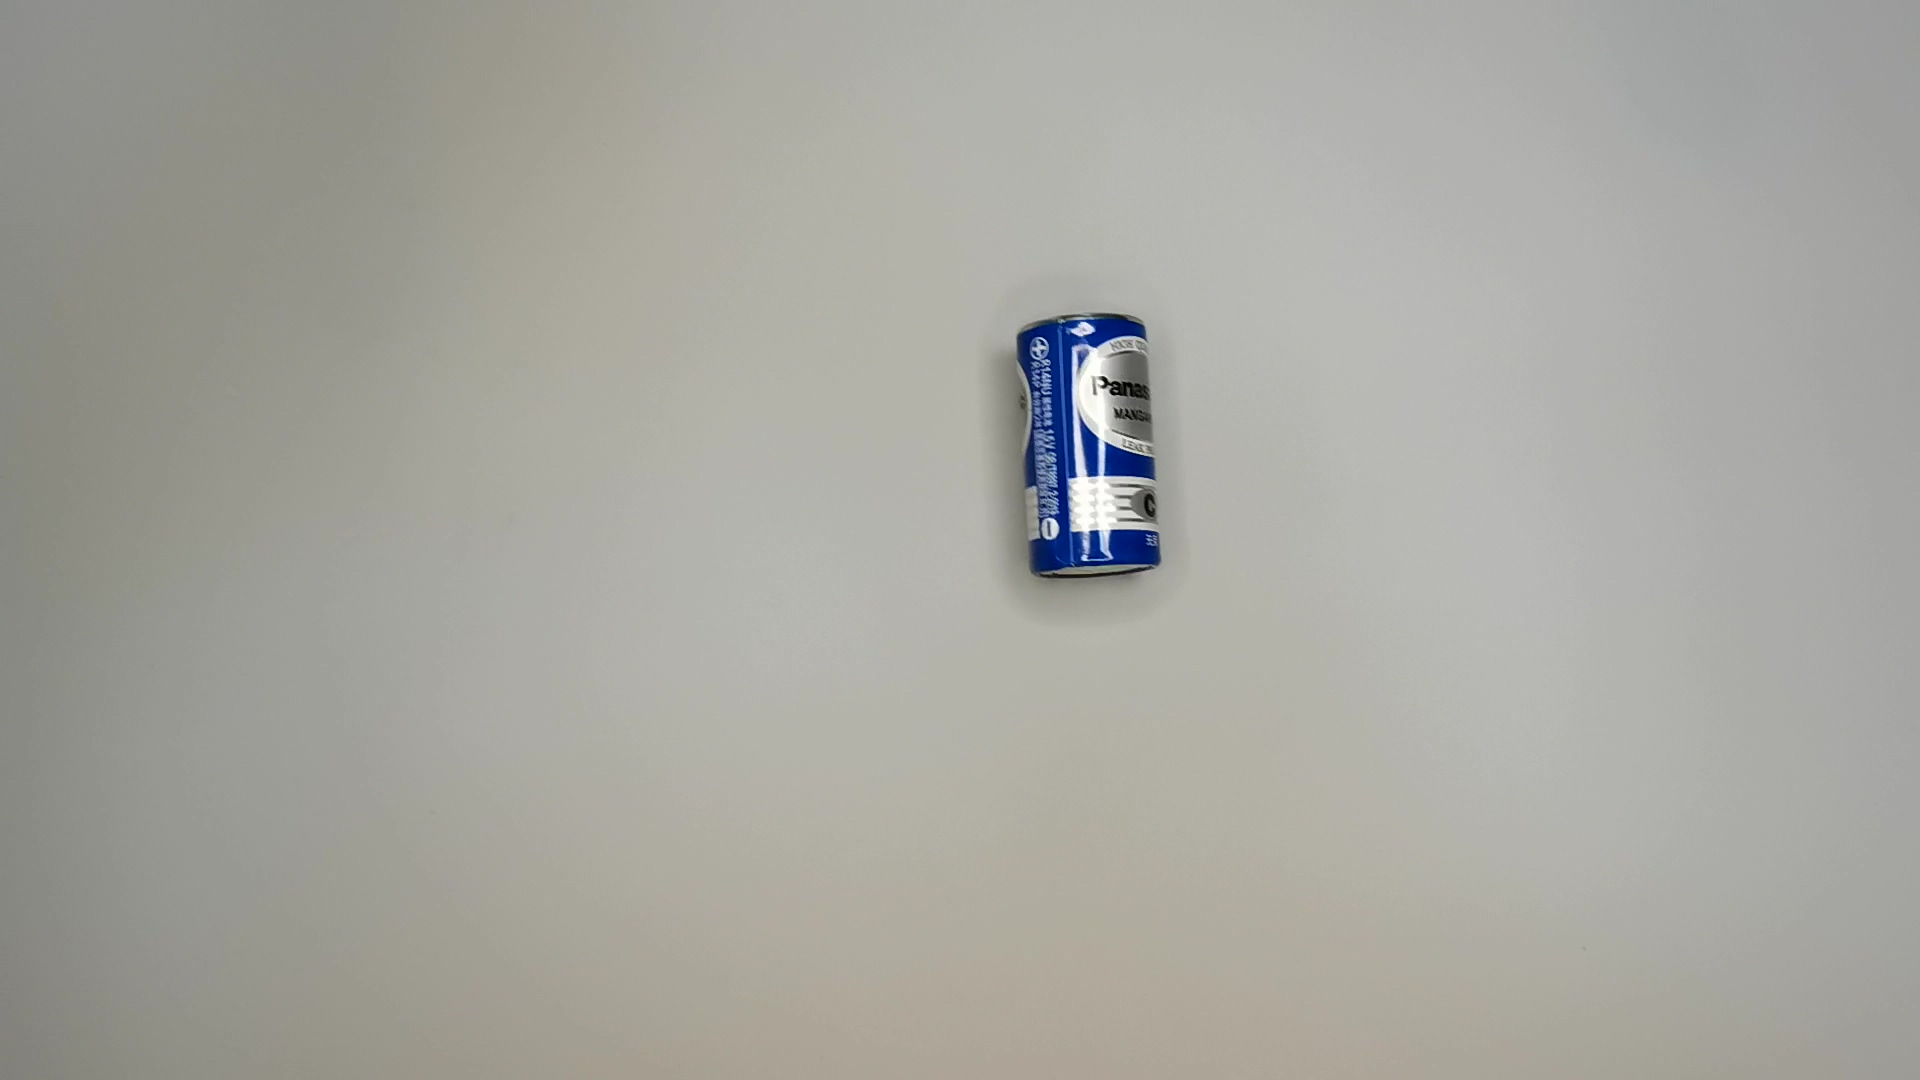battery: (1006, 309, 1174, 593)
